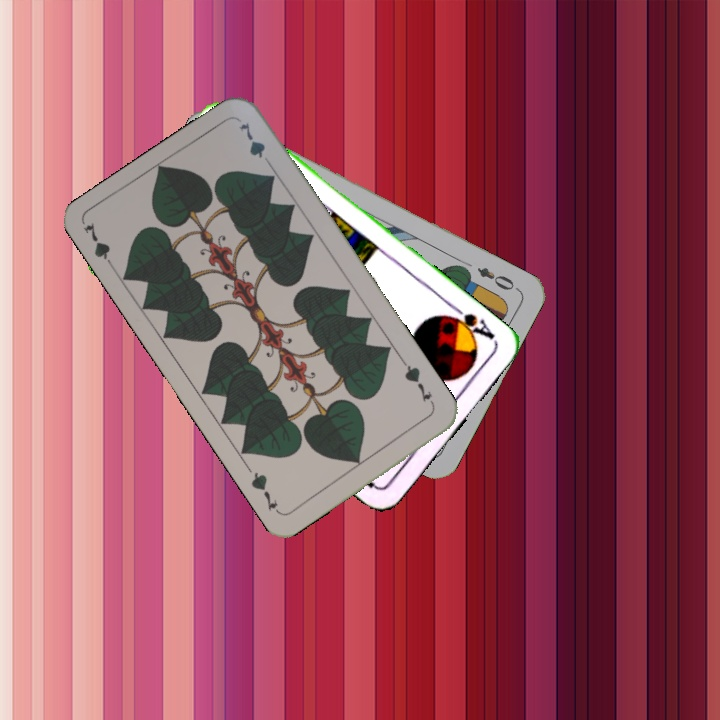EO: (473, 263, 522, 293)
G7: (79, 218, 119, 275), (399, 358, 434, 405)
SA: (441, 301, 498, 346)
